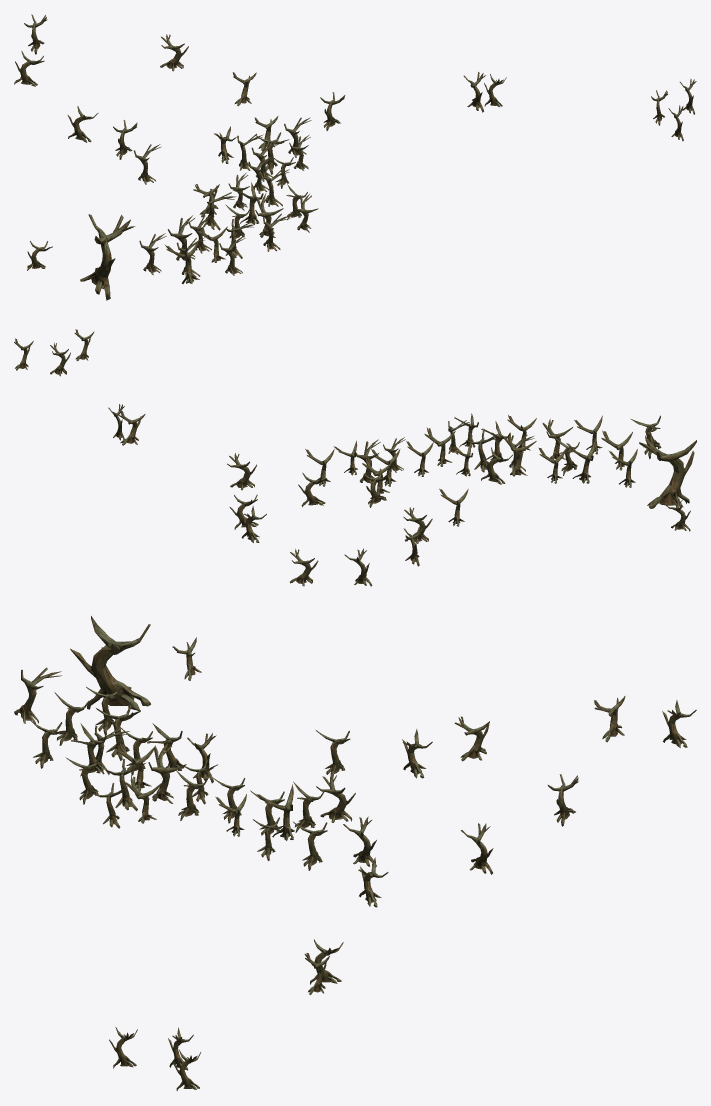
The model's file is Tree_Block_2.FBX.
3 renders of one model, top to bottom at view 1: azimuth 30°, elevation 25°; view 2: azimuth 150°, elevation 25°; view 3: azimuth 270°, elevation 25°, orthographic. The views are drawn at different scales.
Parts seen in each view (by area): view 1: Object3850; view 2: Object3850; view 3: Object3850.
Boxes of the visible parts, left/top/right/bottom form: Object3850: left=14, top=14, right=696, bottom=300; Object3850: left=14, top=329, right=696, bottom=586; Object3850: left=14, top=616, right=696, bottom=1090.
Size of the model in its own units: 512 by 58.82 by 348.
